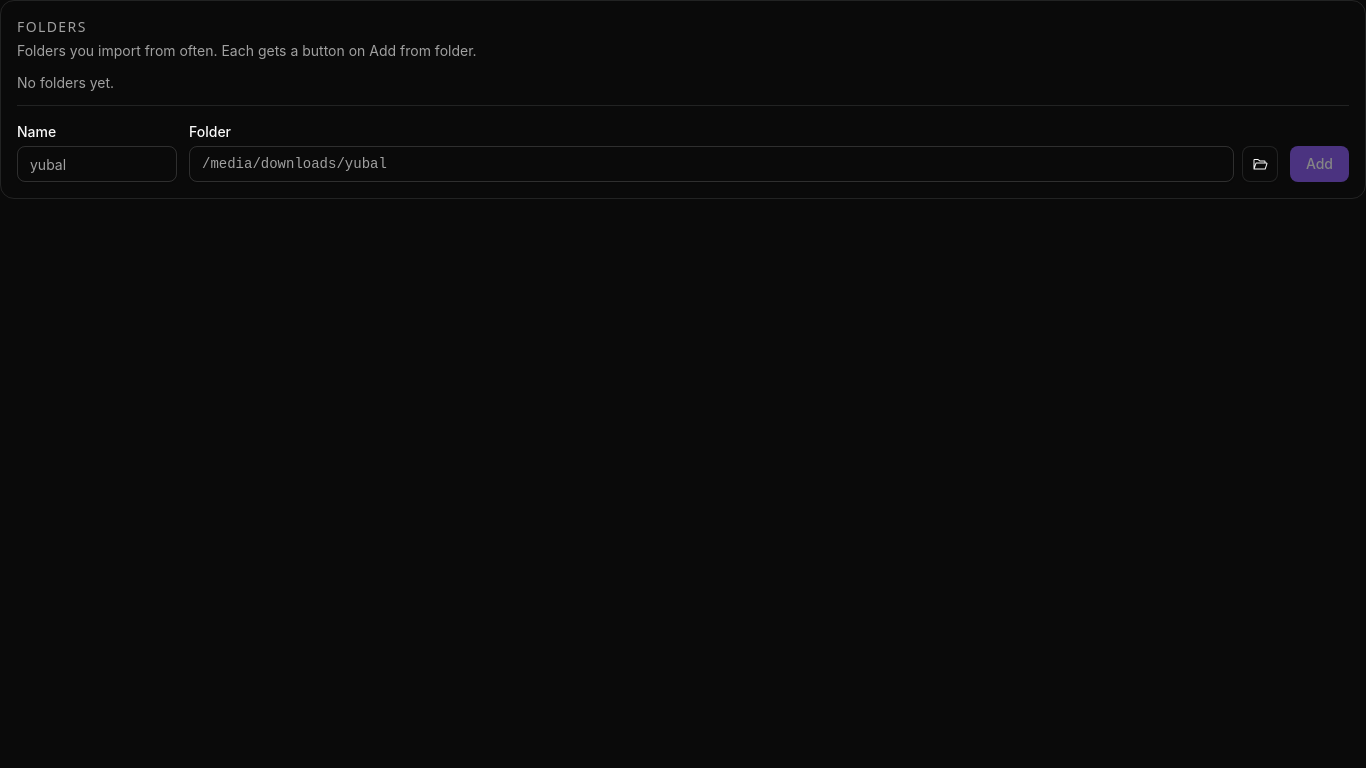
Test: FolderSourcesPanel: adding › Browse fills the Folder field
Expected: the text "No folders yet." is shown, [17,74,114,91]
Click the button named "Browse folders" at (1260, 164), box [1242,146,1278,182]
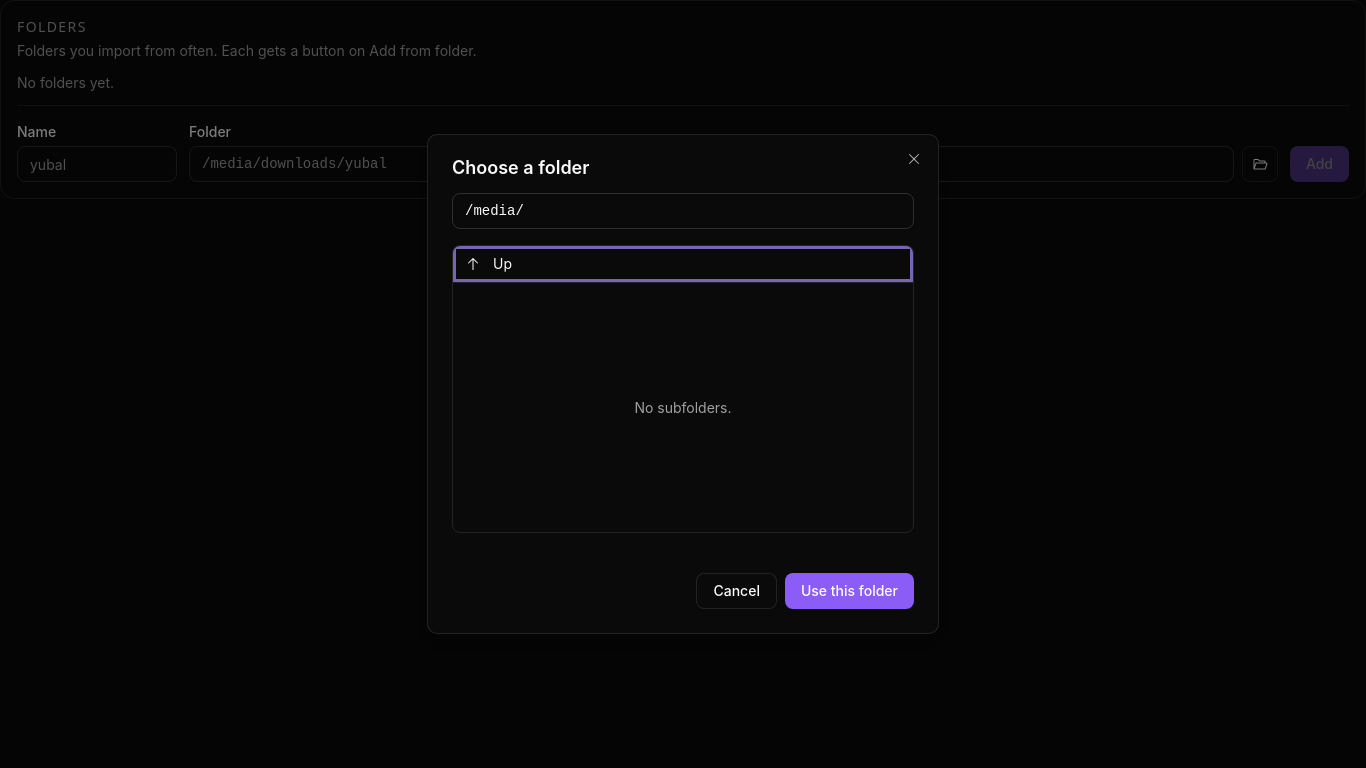
Now the text "No subfolders." is shown, box [634,398,732,418]
Click the button "Use this folder" at (849, 591), box [785,573,914,609]
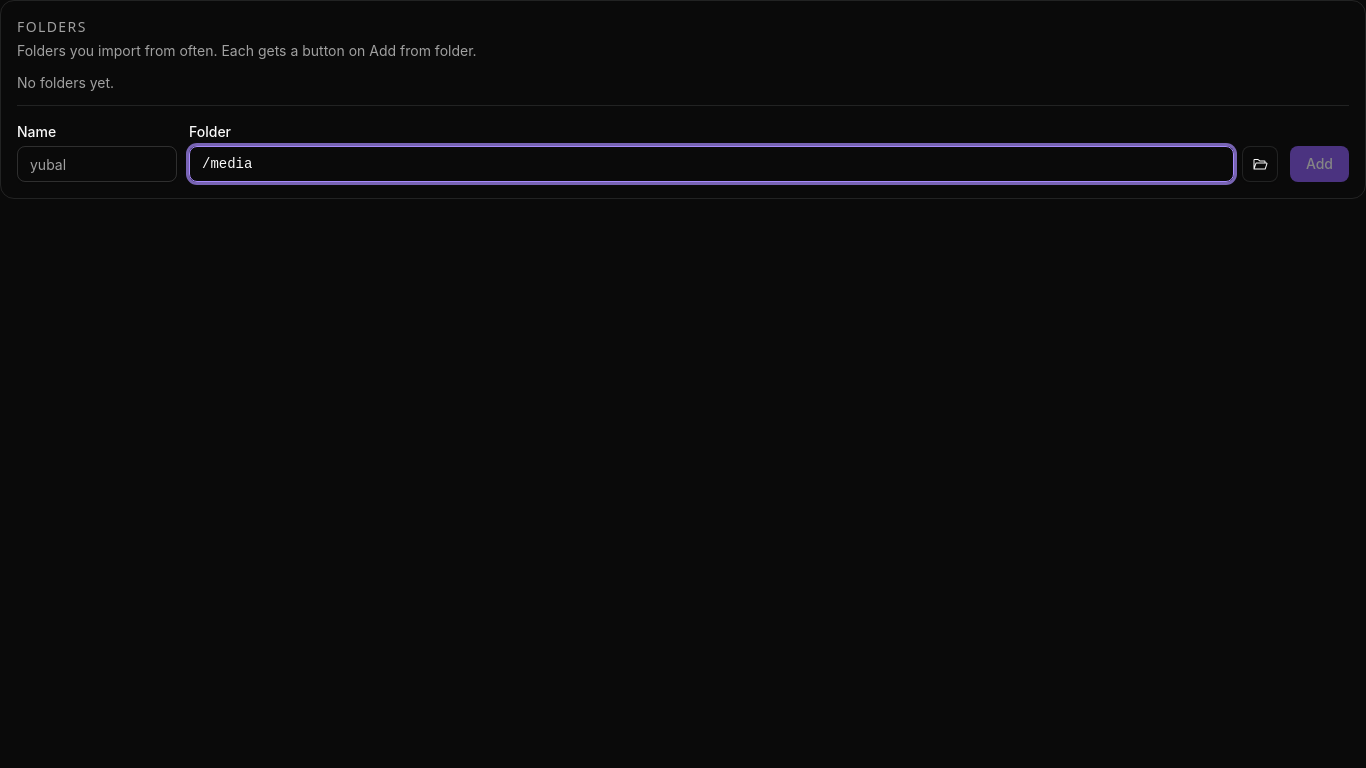
Now the field labelled "Folder" holds "/media", box [189,146,1234,182]
